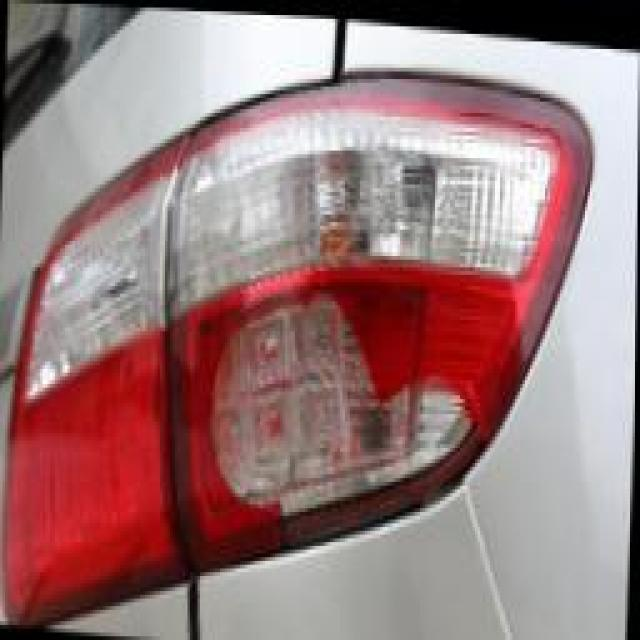Light: (195, 222, 482, 581)
